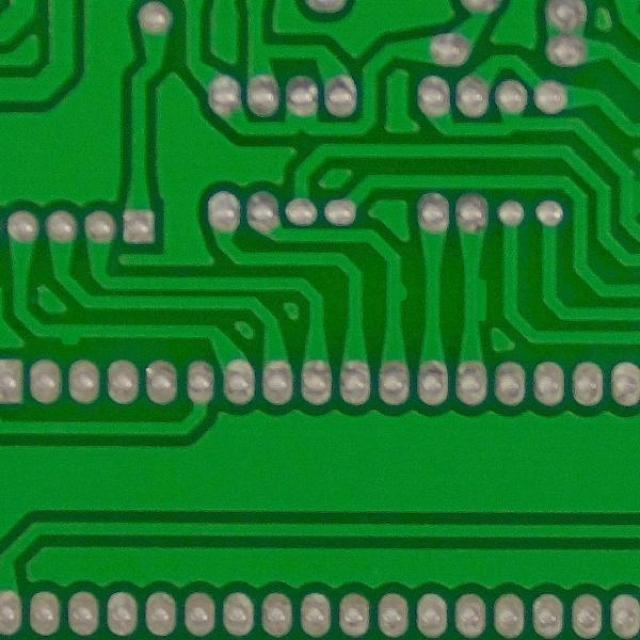Spur: (454, 270, 494, 328), (378, 273, 416, 312), (50, 318, 93, 352)
